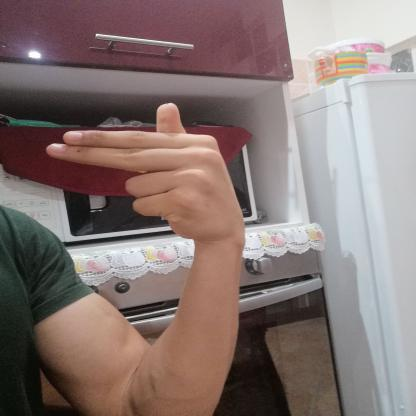GHAYN: (28, 94, 258, 251)
